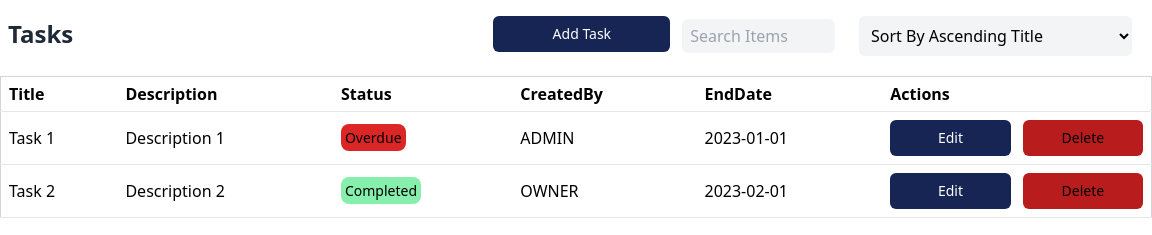
Test: TaskList › should filter tasks based on search term
This screenshot has width=1152, height=235.
Step 1. Type "Task 1" into the field with placeholder "Search Items" → (759, 36), box [682,19,835,53]
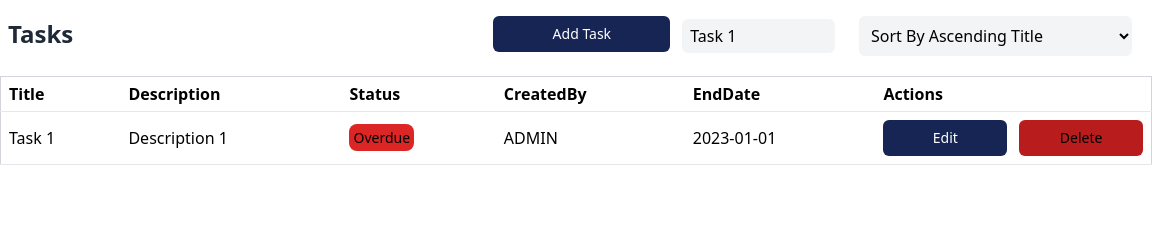
Now the text "Task 2" is gone
